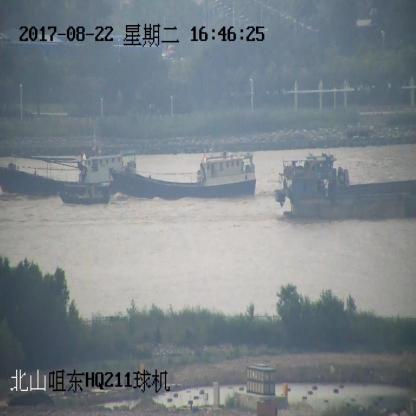Fishing Boat: (108, 152, 255, 197), (0, 150, 126, 198), (62, 182, 110, 208)
